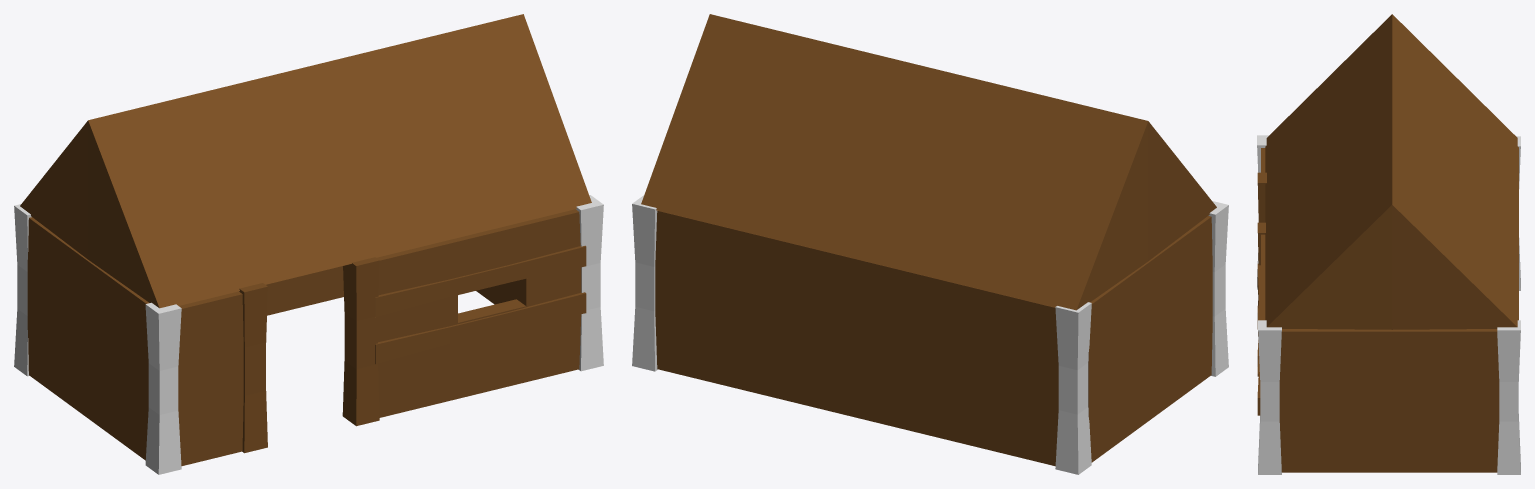
File: House.fbx
3 views of the same model, side by side, from view 1: azimuth 30°, elevation 25°; view 2: azimuth 150°, elevation 25°; view 3: azimuth 270°, elevation 25° (orthographic). The views are drawn at different scales.
Visible parts, largest first — view 1: Cube, Cube.001; view 2: Cube, Cube.001; view 3: Cube, Cube.001.
Boxes of the visible parts, x1,y1,x2,y2 form: Cube: (20, 14, 591, 465); Cube.001: (14, 195, 603, 474); Cube: (641, 14, 1216, 466); Cube.001: (632, 195, 1228, 474); Cube: (1257, 14, 1518, 472); Cube.001: (1257, 135, 1520, 474).
Size of the model in its own units: 797 by 510 by 455.
